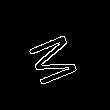M_E: (25, 24, 85, 86)
